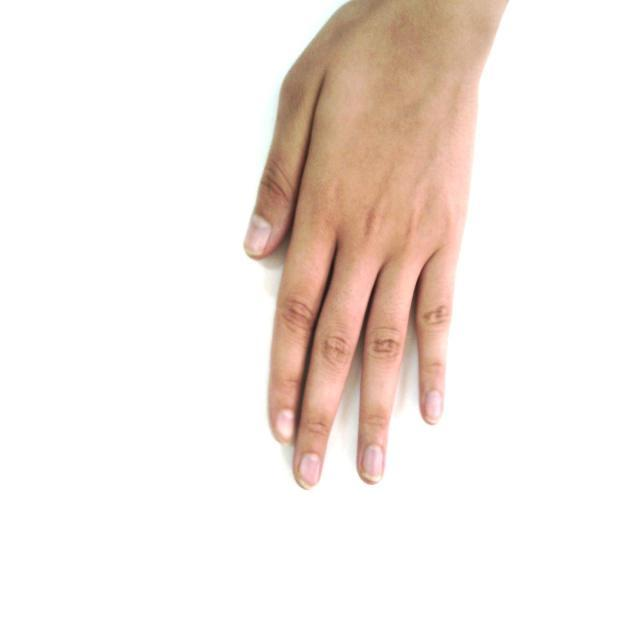Fingernail: (246, 216, 271, 254), (299, 454, 319, 486), (363, 446, 382, 479), (276, 411, 293, 441), (426, 391, 441, 422)
